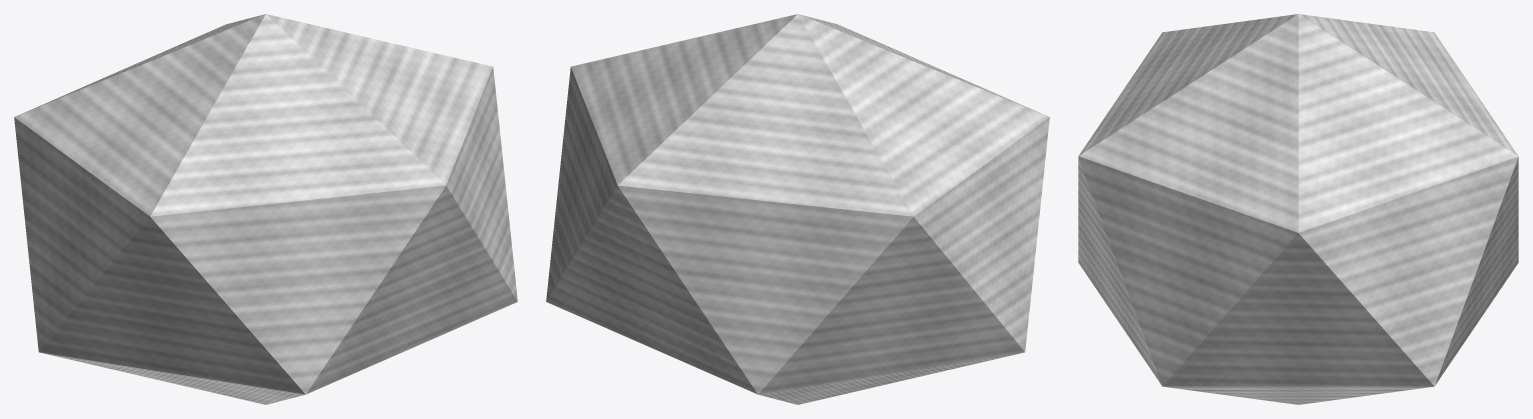
Rendered from item-biomass_variant_a.glb.
The picture shows the model from 3 angles, left to right: view 1: azimuth 30°, elevation 25°; view 2: azimuth 150°, elevation 25°; view 3: azimuth 270°, elevation 25°; orthographic projection.
Visible parts, largest first — view 1: Material chunk; view 2: Material chunk; view 3: Material chunk.
Part boxes in pixels (bbox=[...]): Material chunk: bbox=[14, 14, 517, 404]; Material chunk: bbox=[546, 14, 1049, 404]; Material chunk: bbox=[1078, 14, 1518, 404].
Size of what is drawn, in the model's own units: 0.6082 by 0.5 by 0.5104.
Materials: 1 (1 with a texture image).
